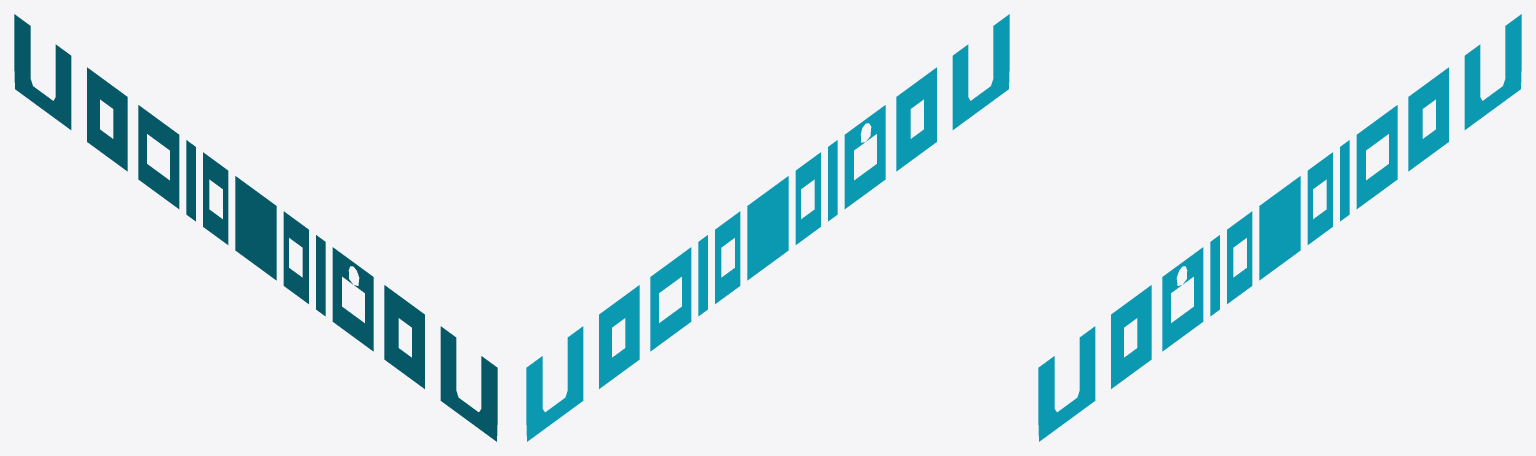
Rendered from Wall02.FBX.
The picture shows the model from 3 angles, left to right: view 1: azimuth 30°, elevation 25°; view 2: azimuth 150°, elevation 25°; view 3: azimuth 330°, elevation 25°; orthographic projection.
Parts seen in each view (by area): view 1: Plane021; view 2: Plane021; view 3: Plane021.
Boxes of the visible parts, x1,y1,x2,y2 form: Plane021: [14, 14, 497, 441]; Plane021: [526, 14, 1009, 441]; Plane021: [1038, 14, 1521, 441].
Size of the model in its own units: 0.000483 by 869 by 10190.
